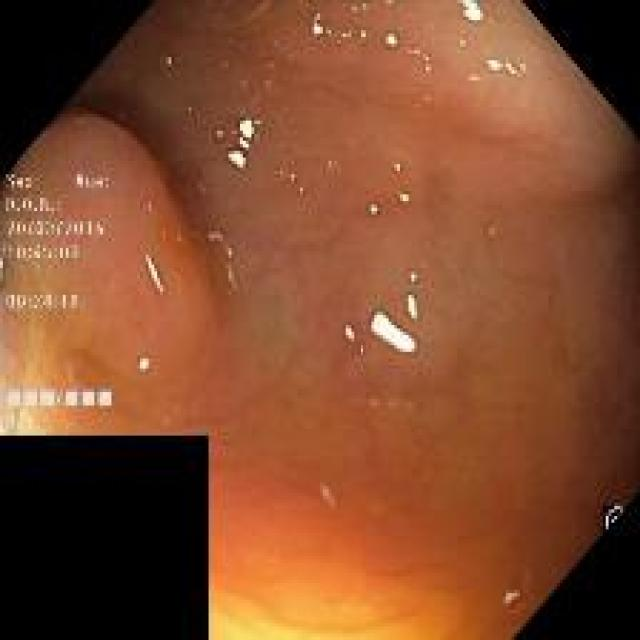Polyps: (0, 110, 219, 432)
